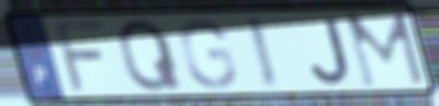F: (50, 19, 109, 95)
G: (177, 17, 239, 91)
I: (241, 13, 282, 92)
J: (307, 15, 354, 87)
M: (342, 10, 429, 91)
Q: (116, 17, 185, 94)
